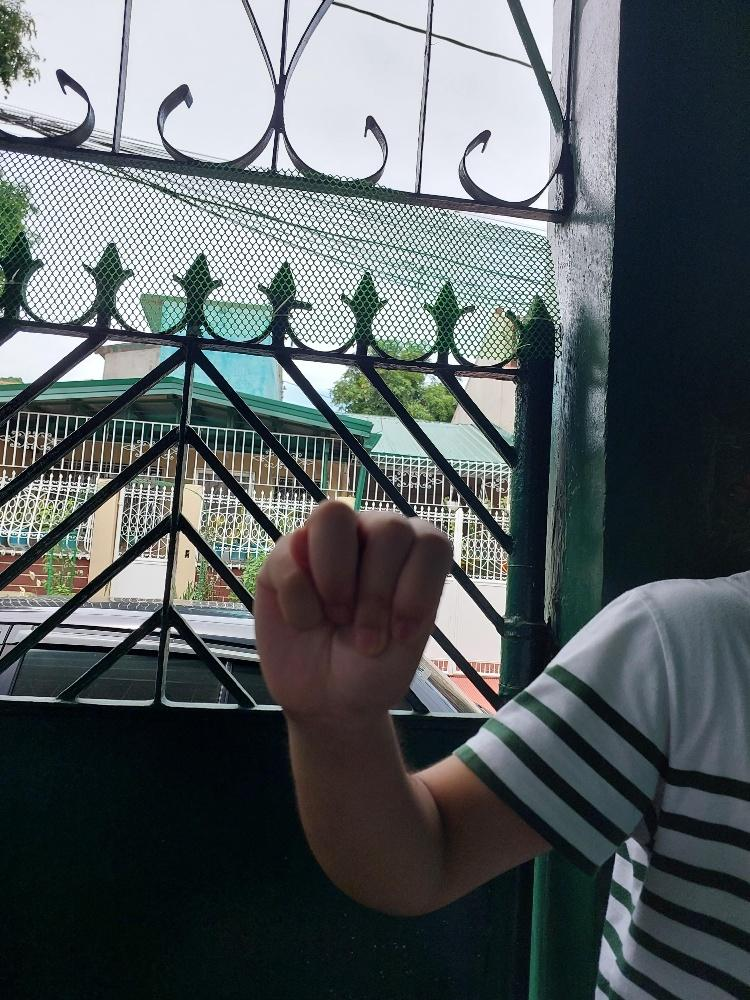m: (249, 495, 454, 721)
